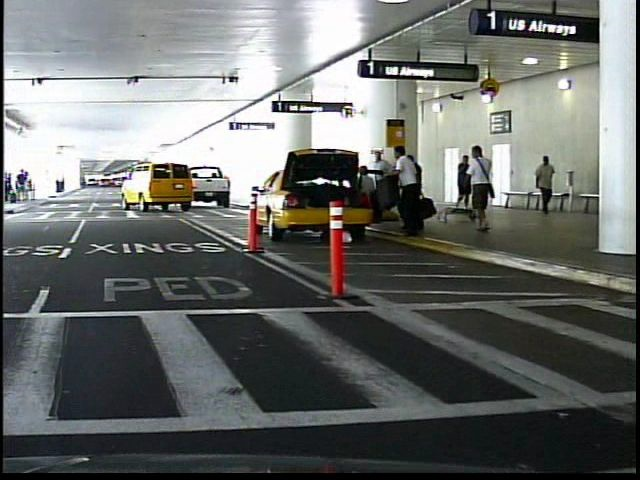person: (461, 142, 497, 234), (526, 151, 552, 213)
